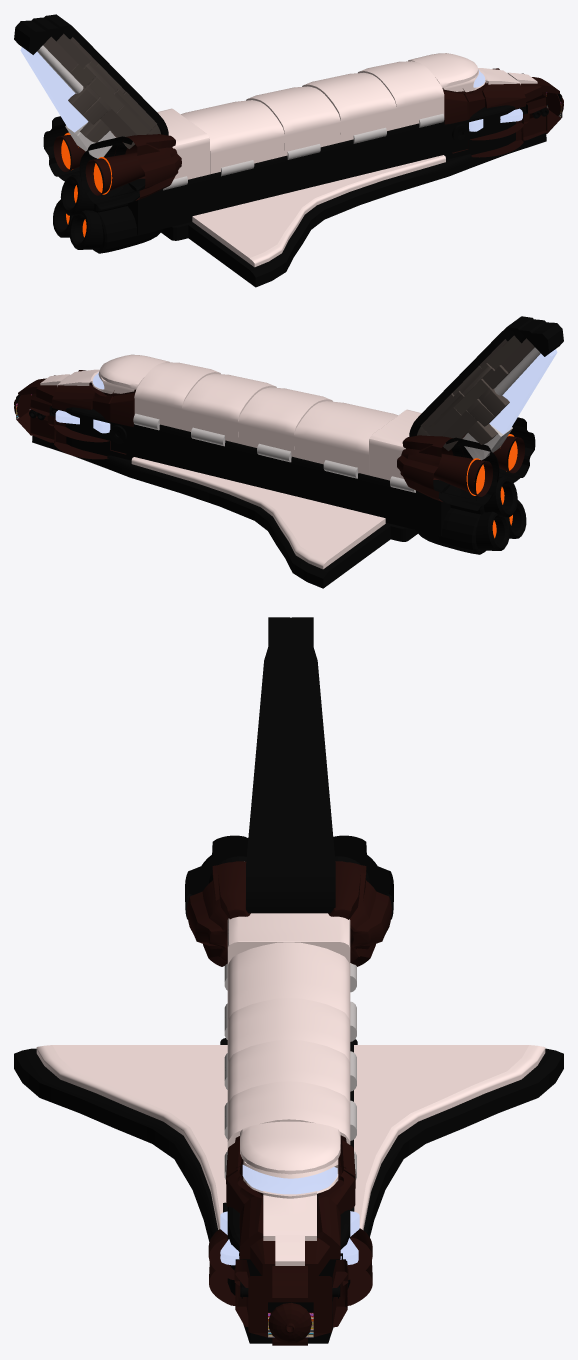
The model's file is spaceship-optimized.glb.
3 views of the same model, one above another, from view 1: azimuth 30°, elevation 25°; view 2: azimuth 150°, elevation 25°; view 3: azimuth 270°, elevation 25° (orthographic). The views are drawn at different scales.
Visible parts, largest first — view 1: spaceship_top, spaceship_head_side_part6.003, spaceship_top_wing.003, spaceship_top_engine.001, spaceship_below_wing, spaceship_behind_wing_inner.003, spaceship_behind_wing_cover, spaceship_head_side_part6.004, spaceship_top_linker.003, spaceship_behind_wing_light, Retopo_spaceship_bottom_engine_body.001, Retopo_spaceship_bottom_engine_head.002 (+10 smaller); view 2: spaceship_top, spaceship_head_side_part6.003, spaceship_top_wing.003, spaceship_top_engine.001, spaceship_below_wing, spaceship_behind_wing_inner.003, spaceship_behind_wing_cover, spaceship_top_linker.003, spaceship_head_side_part6.004, spaceship_behind_wing_light, Retopo_spaceship_bottom_engine_body.001, Retopo_spaceship_bottom_engine_head.002 (+14 smaller); view 3: spaceship_top_wing.003, spaceship_top, spaceship_behind_wing_cover, spaceship_below_wing, spaceship_top_engine.001, Retopo_spaceship_head_top_ceiling.002, spaceship_top_linker.003, spaceship_head_side_part2.001, spaceship_head_frontPats.009, spaceship_head_top_toe, spaceship_head_side_part1, spaceship_head_frontPats (+7 smaller).
Boxes of the visible parts, box(x1,y1,x2,y2) form: spaceship_top: box(181, 61, 444, 174); spaceship_head_side_part6.003: box(127, 118, 444, 234); spaceship_top_wing.003: box(192, 155, 445, 267); spaceship_top_engine.001: box(43, 116, 181, 209); spaceship_below_wing: box(161, 133, 546, 287); spaceship_behind_wing_inner.003: box(43, 33, 160, 148); spaceship_behind_wing_cover: box(14, 14, 168, 135); spaceship_head_side_part6.004: box(444, 105, 516, 159); spaceship_top_linker.003: box(157, 108, 209, 179); spaceship_behind_wing_light: box(20, 47, 88, 132); Retopo_spaceship_bottom_engine_body.001: box(93, 206, 163, 253); Retopo_spaceship_bottom_engine_head.002: box(53, 199, 103, 249); spaceship_top: box(134, 362, 397, 475); spaceship_head_side_part6.003: box(134, 424, 450, 535); spaceship_top_wing.003: box(131, 457, 385, 569); spaceship_top_engine.001: box(397, 417, 535, 510); spaceship_below_wing: box(32, 435, 417, 588); spaceship_behind_wing_inner.003: box(417, 335, 534, 450); spaceship_behind_wing_cover: box(409, 316, 563, 436); spaceship_top_linker.003: box(369, 409, 421, 480); spaceship_head_side_part6.004: box(62, 407, 133, 460); spaceship_behind_wing_light: box(489, 349, 557, 434); Retopo_spaceship_bottom_engine_body.001: box(415, 508, 485, 554); Retopo_spaceship_bottom_engine_head.002: box(476, 500, 526, 550); spaceship_top_wing.003: box(36, 1045, 545, 1230); spaceship_top: box(227, 942, 350, 1149); spaceship_behind_wing_cover: box(246, 617, 335, 913); spaceship_below_wing: box(14, 1038, 563, 1343); spaceship_top_engine.001: box(185, 835, 393, 966); Retopo_spaceship_head_top_ceiling.002: box(240, 1121, 340, 1174); spaceship_top_linker.003: box(227, 913, 350, 964); spaceship_head_side_part2.001: box(239, 1196, 340, 1275); spaceship_head_frontPats.009: box(248, 1275, 332, 1337); spaceship_head_top_toe: box(263, 1191, 316, 1240); spaceship_head_side_part1: box(226, 1139, 355, 1214); spaceship_head_frontPats: box(268, 1266, 313, 1345).
Size of the model in its own units: 2.83 by 1.17 by 1.63.
17 materials, 14 textured.
